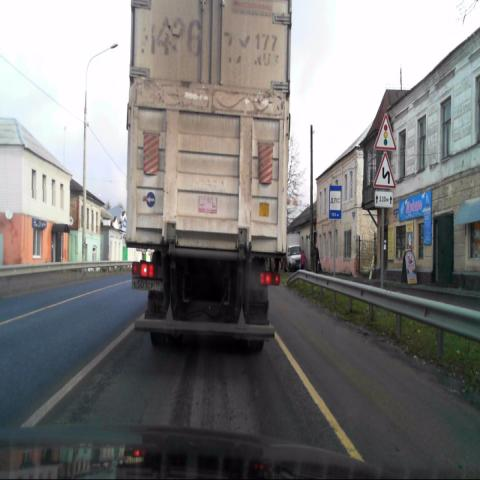1_12_2: (373, 151, 396, 189)
7_12: (328, 185, 342, 219)
